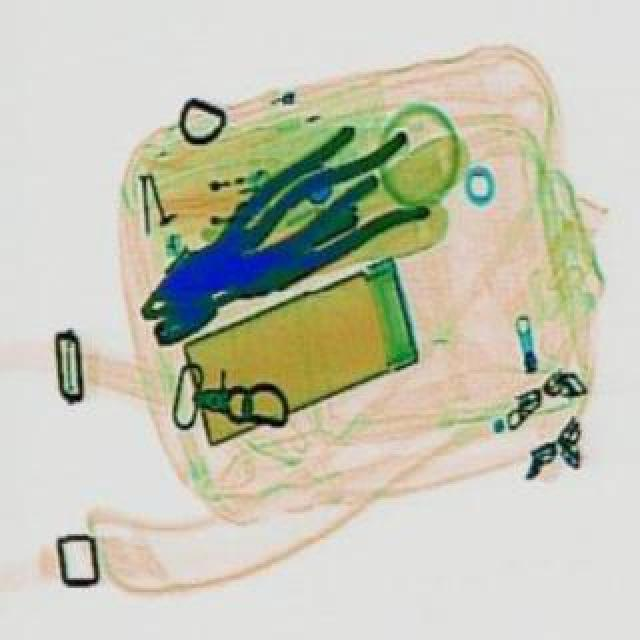wrench: (114, 118, 398, 340), (140, 124, 448, 328)
